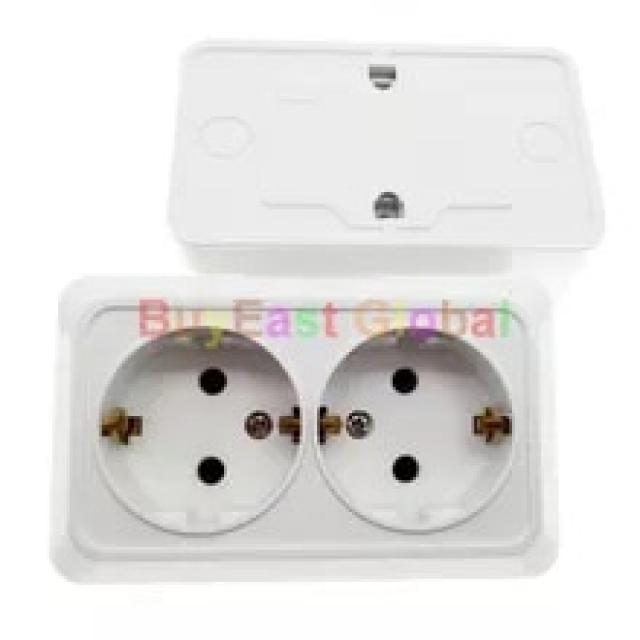typeb: (47, 268, 564, 576)
